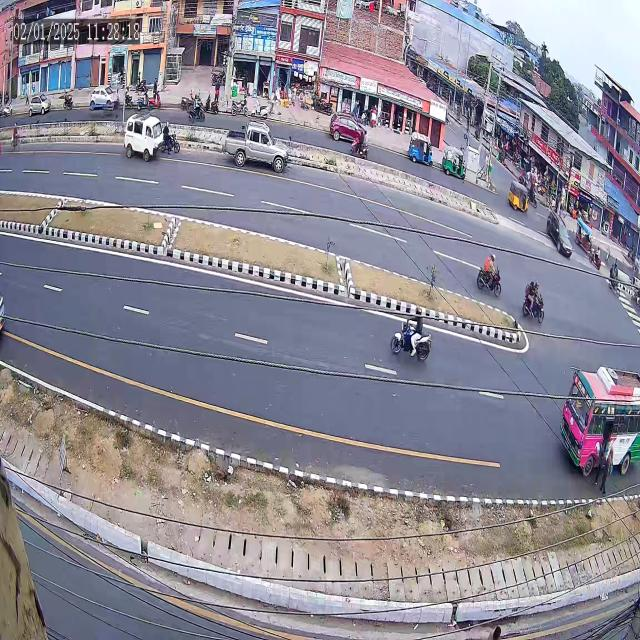motorcycle: (382, 298, 435, 375), (469, 235, 503, 306), (519, 266, 550, 332)
